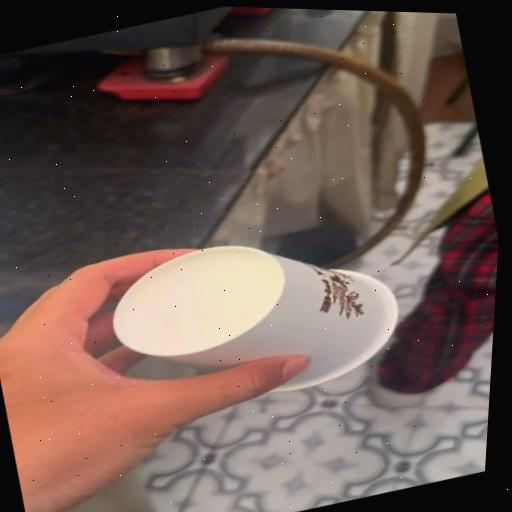Ly_giay: (113, 246, 397, 390)
